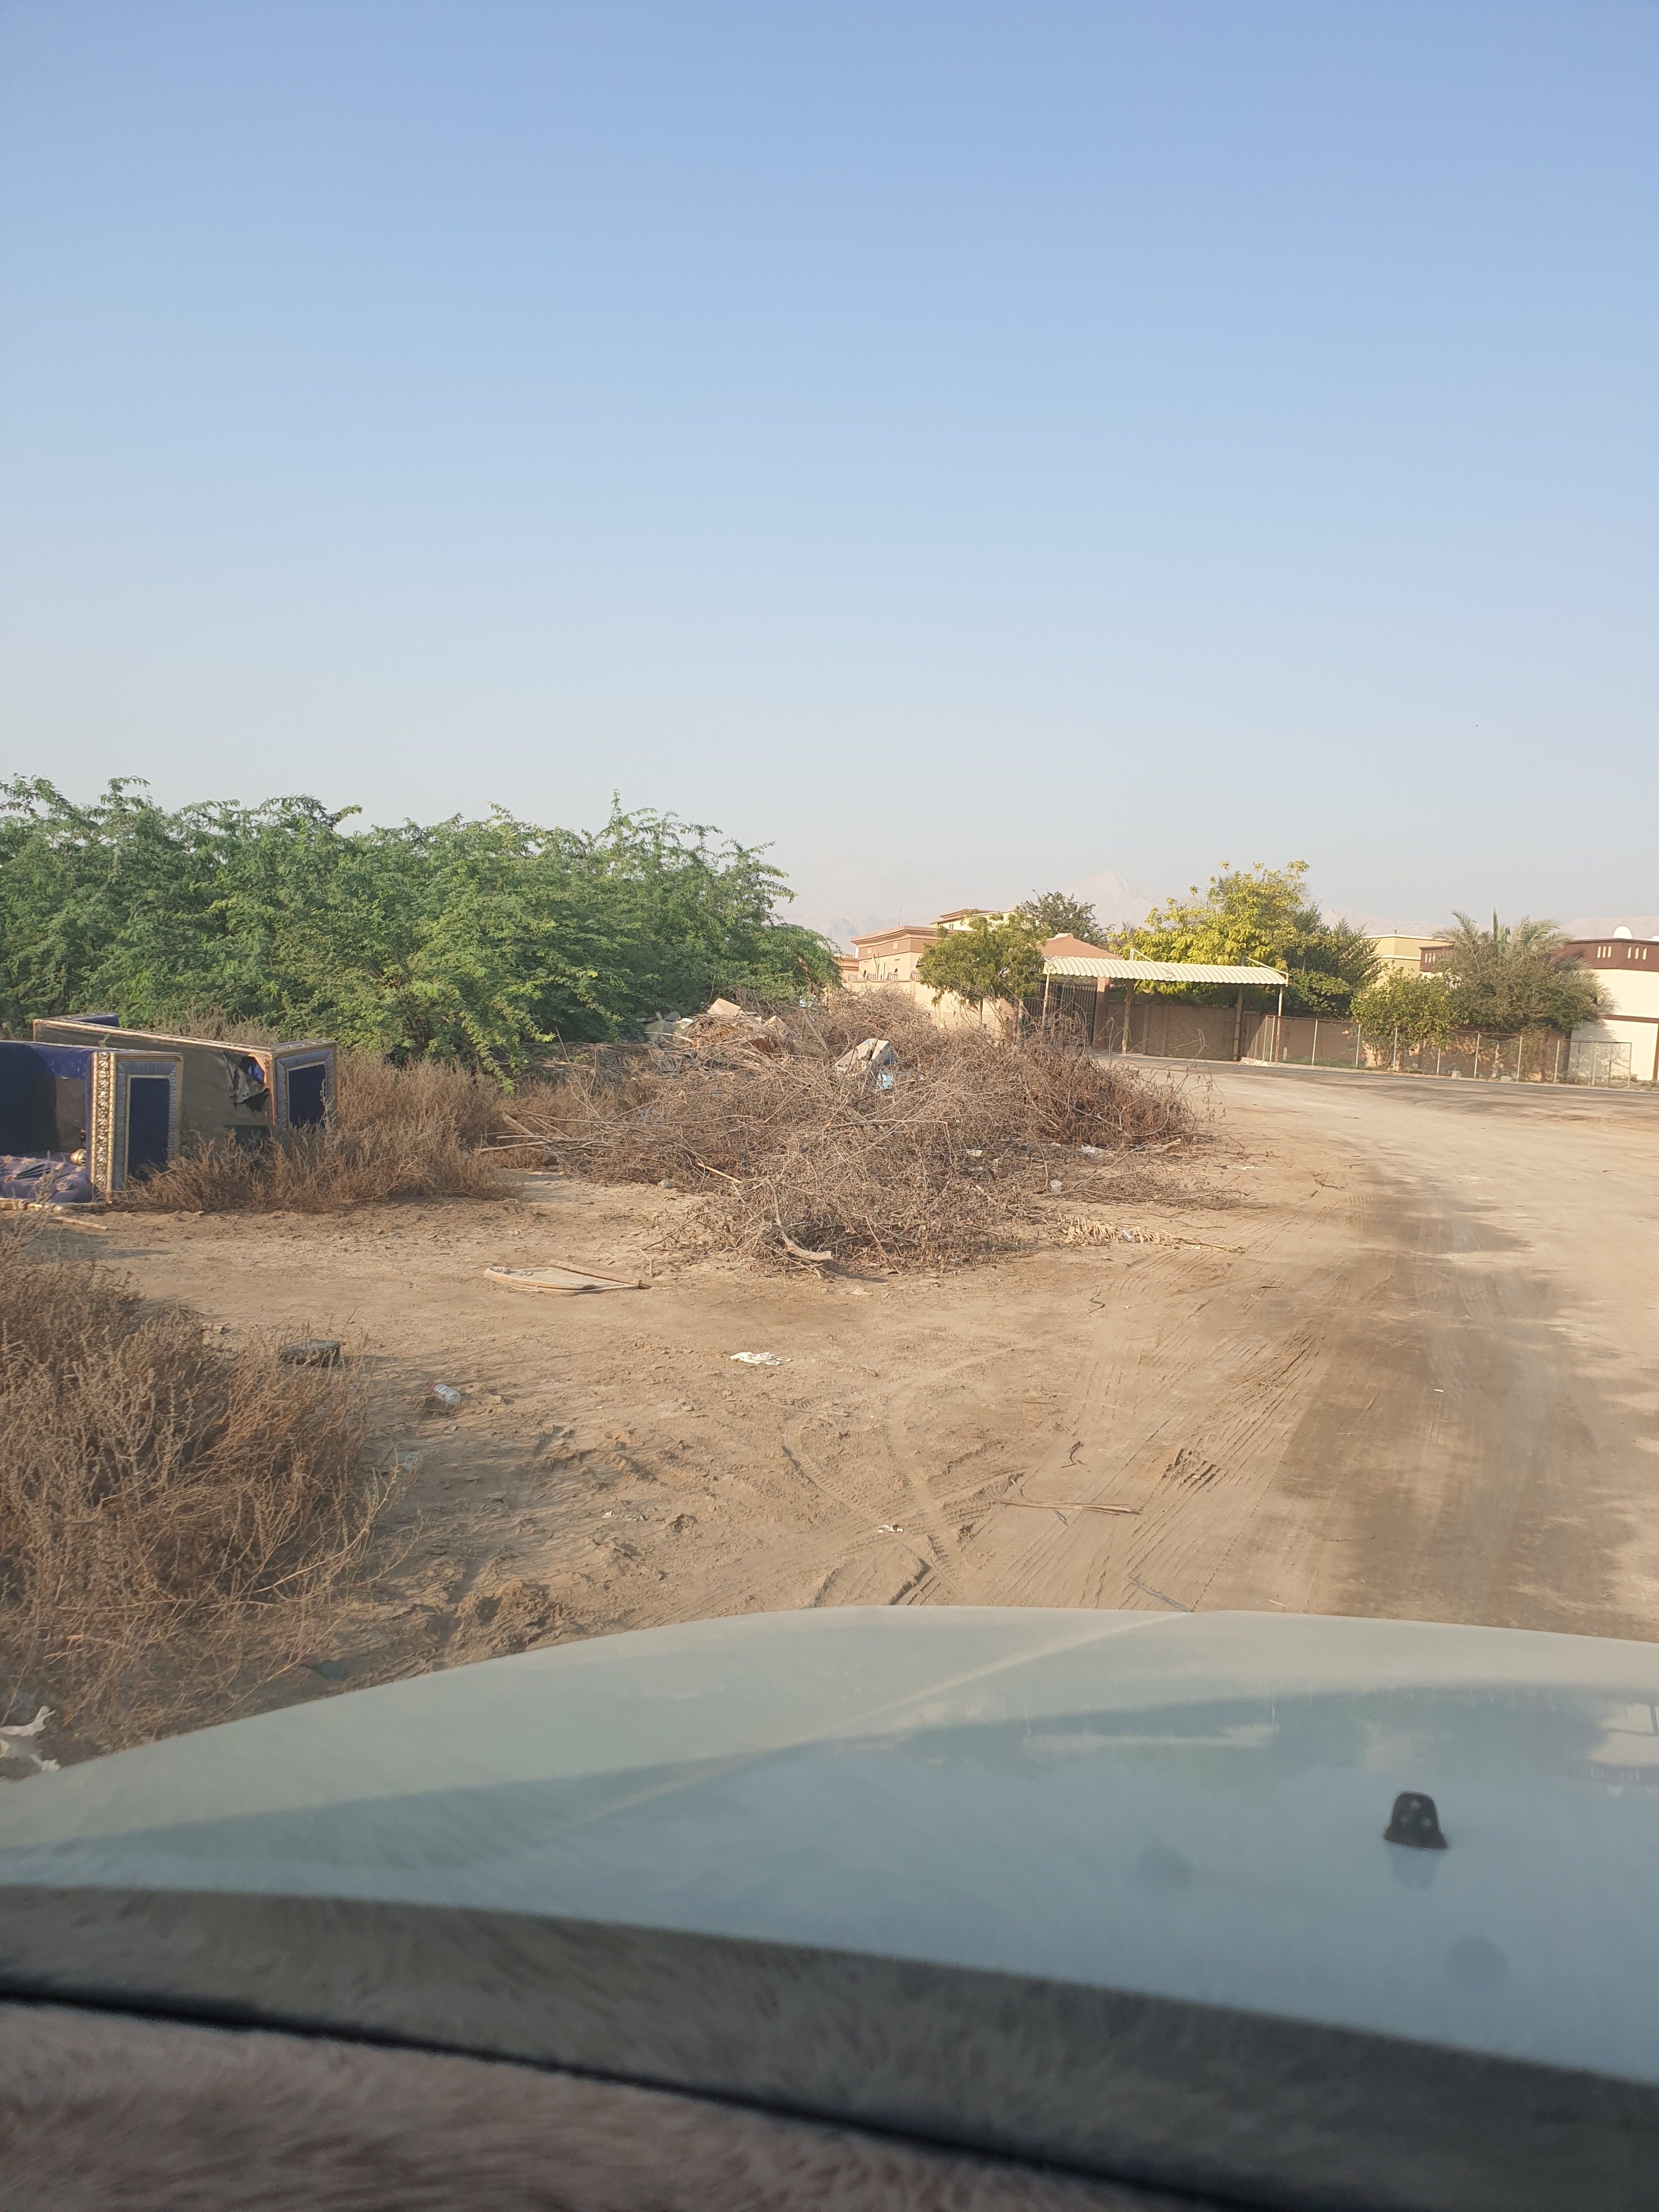fallen_trees: (1033, 1204, 1258, 1263)
uncollected_waste: (26, 1005, 361, 1223), (488, 1251, 653, 1310), (824, 1031, 908, 1090)
